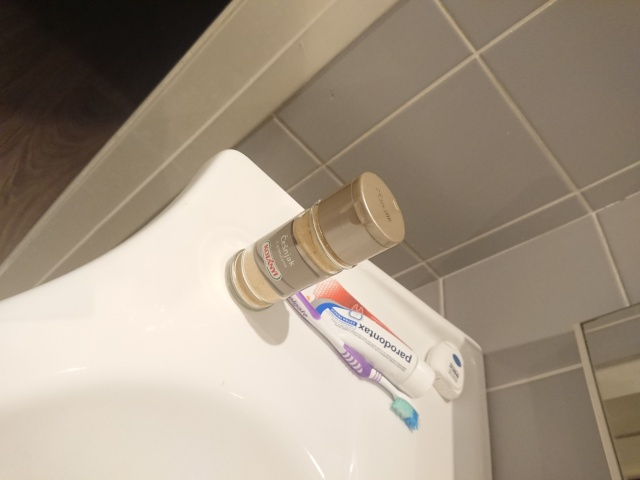Kotanyi Garlic Granules 70g: (223, 169, 408, 312)
